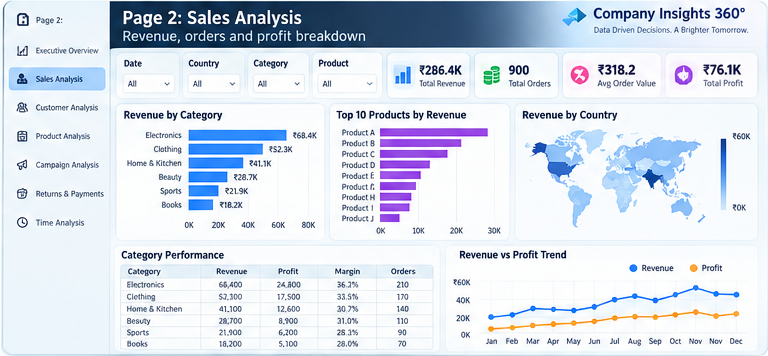

What the dashboard file says about the page in this screenshot:
{"tool":"powerbi","page":{"name":"Sales Analysis ","canvas":[1920,1080],"ordinal":1},"visuals":[{"type":"image","box":[0,0,1919.3,136.3],"z":0},{"type":"image","box":[0,22.7,76.5,87.9],"z":1000},{"type":"textbox","box":[81.8,31.8,447.4,93.1],"z":2000},{"type":"shape","box":[0,152.5,286.4,911.4],"z":3000},{"type":"slicer","fields":{"Values":["company_data_cleaned.SessionDate"]},"box":[306.6,152.2,131.7,102.2],"z":4000},{"type":"slicer","fields":{"Values":["company_data_cleaned.Country"]},"box":[461.1,152.2,136.3,102.2],"z":5000},{"type":"slicer","fields":{"Values":["company_data_cleaned.Category"]},"box":[617.8,152.2,136.3,102.2],"z":6000},{"type":"slicer","fields":{"Values":["company_data_cleaned.CampaignSchema "]},"box":[770,152.2,140.8,102.2],"z":7000},{"type":"cardVisual","fields":{"Data":["company_data_cleaned.Total Revenue"]},"box":[928.1,154.4,228.8,102.3],"z":8000},{"type":"image","box":[944.9,174.8,61.3,61.3],"z":9000},{"type":"cardVisual","fields":{"Data":["company_data_cleaned.Total Orders"]},"box":[1169.9,154.4,223.2,102.3],"z":10000},{"type":"image","box":[1181.1,179.4,77.2,56.8],"z":11000},{"type":"cardVisual","fields":{"Data":["company_data_cleaned.Average Order Value"]},"box":[1408,156.2,228.8,102.3],"z":12000},{"type":"image","box":[1419.6,170.3,61.3,65.9],"z":13000},{"type":"cardVisual","fields":{"Data":["company_data_cleaned.Total Profit"]},"box":[1653.5,154.4,225.1,102.3],"z":14000},{"type":"image","box":[1667.1,172.6,61.3,61.3],"z":15000},{"type":"clusteredBarChart","title":"Revenue by Category","fields":{"Category":["company_data_cleaned.Category"],"Y":["company_data_cleaned.Total Revenue"]},"box":[306.6,281.6,463.3,399.8],"z":16000},{"type":"clusteredBarChart","title":"Top 10 Products by Revenue","fields":{"Y":["company_data_cleaned.Total Revenue"],"Category":["company_data_cleaned.Product"]},"box":[783.6,283.9,463.3,397.5],"z":17000},{"type":"filledMap","title":"Revenue by Country","fields":{"Category":["company_data_cleaned.Country"]},"box":[1265.1,283.9,613.3,397.5],"z":18000},{"type":"tableEx","title":"Category Performance","fields":{"Values":["company_data_cleaned.Category","company_data_cleaned.Total Revenue","company_data_cleaned.Total Orders","company_data_cleaned.Total Profit","Sum(company_data_cleaned.ProfitMargin)"]},"box":[306.6,699.6,667.8,322.5],"z":19000},{"type":"lineChart","title":"Revenue vs Profit Trend","fields":{"Category":["company_data_cleaned.SessionStart.Variation.Date Hierarchy.Year","company_data_cleaned.SessionStart.Variation.Date Hierarchy.Quarter","company_data_cleaned.SessionStart.Variation.Date Hierarchy.Month","company_data_cleaned.SessionStart.Variation.Date Hierarchy.Day"],"Y":["company_data_cleaned.Total Revenue","company_data_cleaned.Total Profit"]},"box":[992.6,699.6,885.8,322.5],"z":20000},{"type":"pageNavigator","box":[38.6,159,233.9,890.4],"z":21000}]}

Visuals, with their boxes on the page's 1920x1080 design canvas (x1, y1, x2, y2). These are canvas units, not pixel positions in the 768x356 screenshot, which may show the page scaled, cropped or inside an application window:
image: [x1=0, y1=0, x2=1919, y2=136]
image: [x1=0, y1=23, x2=76, y2=111]
textbox: [x1=82, y1=32, x2=529, y2=125]
shape: [x1=0, y1=152, x2=286, y2=1064]
slicer - company_data_cleaned.SessionDate: [x1=307, y1=152, x2=438, y2=254]
slicer - company_data_cleaned.Country: [x1=461, y1=152, x2=597, y2=254]
slicer - company_data_cleaned.Category: [x1=618, y1=152, x2=754, y2=254]
slicer - company_data_cleaned.CampaignSchema : [x1=770, y1=152, x2=911, y2=254]
cardVisual - company_data_cleaned.Total Revenue: [x1=928, y1=154, x2=1157, y2=257]
image: [x1=945, y1=175, x2=1006, y2=236]
cardVisual - company_data_cleaned.Total Orders: [x1=1170, y1=154, x2=1393, y2=257]
image: [x1=1181, y1=179, x2=1258, y2=236]
cardVisual - company_data_cleaned.Average Order Value: [x1=1408, y1=156, x2=1637, y2=258]
image: [x1=1420, y1=170, x2=1481, y2=236]
cardVisual - company_data_cleaned.Total Profit: [x1=1654, y1=154, x2=1879, y2=257]
image: [x1=1667, y1=173, x2=1728, y2=234]
"Revenue by Category" clusteredBarChart: [x1=307, y1=282, x2=770, y2=681]
"Top 10 Products by Revenue" clusteredBarChart: [x1=784, y1=284, x2=1247, y2=681]
"Revenue by Country" filledMap: [x1=1265, y1=284, x2=1878, y2=681]
"Category Performance" tableEx: [x1=307, y1=700, x2=974, y2=1022]
"Revenue vs Profit Trend" lineChart: [x1=993, y1=700, x2=1878, y2=1022]
pageNavigator: [x1=39, y1=159, x2=272, y2=1049]
